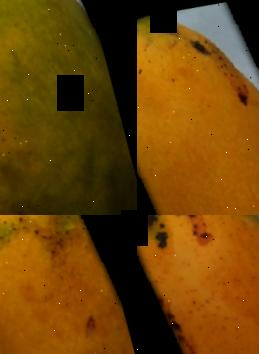PartiallyRipe: (0, 0, 137, 215)
Ripe: (137, 0, 259, 215), (0, 215, 137, 354), (137, 215, 259, 354)
